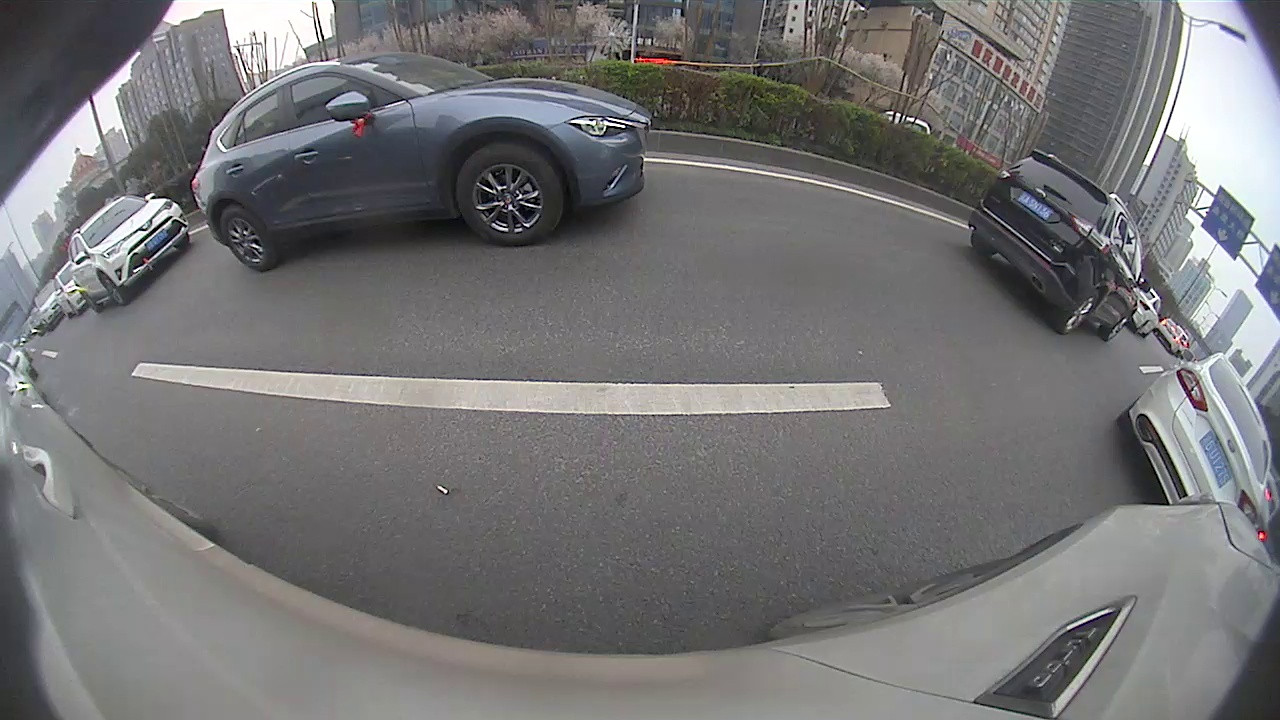bus: (645, 157, 664, 175)
car: (1051, 232, 1264, 390), (825, 149, 997, 251), (997, 214, 1066, 261), (1254, 309, 1278, 390), (800, 167, 852, 201), (731, 161, 780, 190), (702, 158, 734, 182), (777, 167, 800, 191), (594, 164, 615, 180), (630, 165, 646, 180)
front: (1056, 253, 1094, 299), (828, 187, 847, 218)
rear: (1180, 330, 1224, 384), (891, 202, 925, 245), (1033, 242, 1047, 265)
